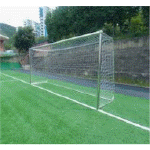goals: (26, 29, 117, 112)
